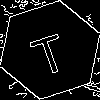T: (25, 25, 71, 78)
